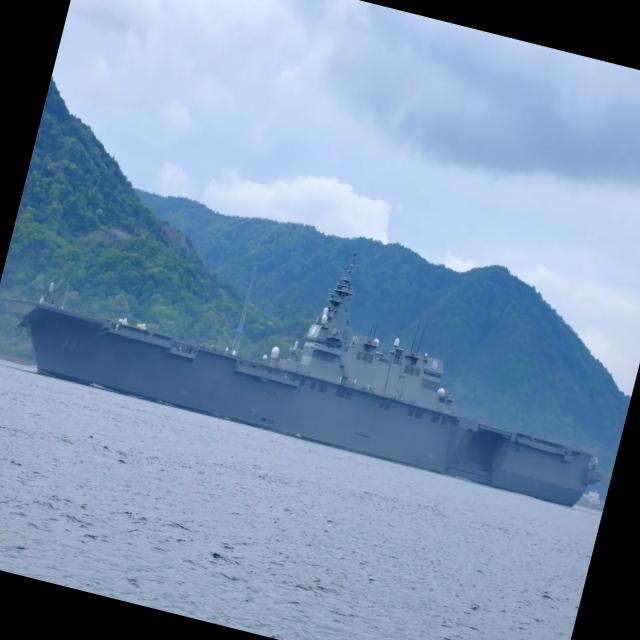Military: (6, 254, 600, 505)
